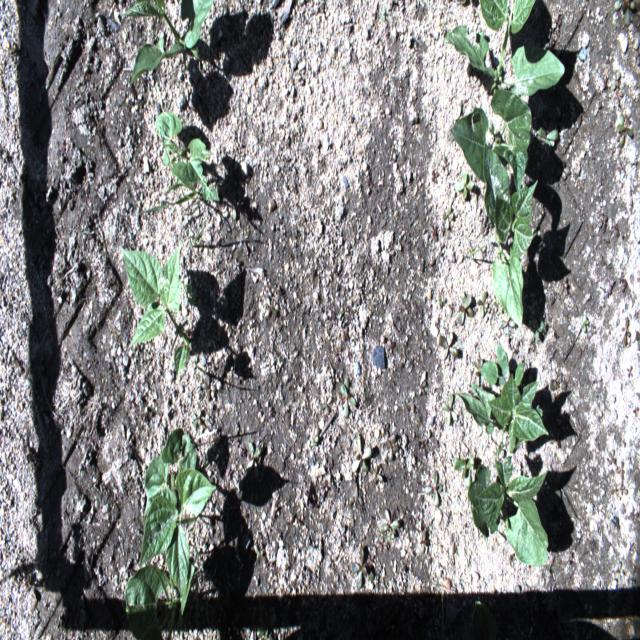crop: (137, 428, 218, 603), (442, 0, 566, 100), (453, 342, 549, 454), (483, 142, 538, 330), (119, 242, 190, 378), (468, 454, 550, 565), (451, 90, 531, 200), (136, 110, 220, 214), (121, 0, 215, 87), (125, 554, 196, 639)
weed: (352, 545, 374, 587), (352, 434, 372, 471), (338, 377, 356, 418), (378, 508, 399, 542), (453, 456, 474, 490), (536, 121, 559, 150), (424, 470, 442, 506), (614, 0, 636, 27), (438, 332, 458, 361), (457, 290, 473, 325), (442, 392, 457, 428), (457, 171, 474, 200), (477, 290, 488, 318)
